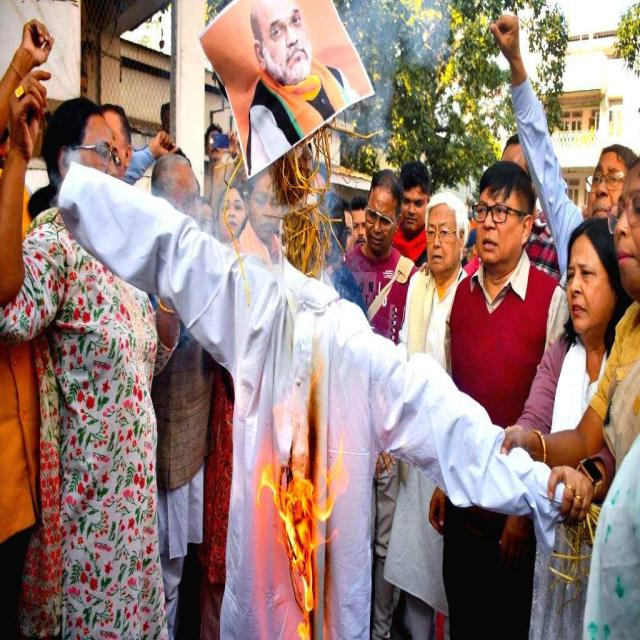fire: (258, 445, 349, 640), (288, 358, 328, 446)
